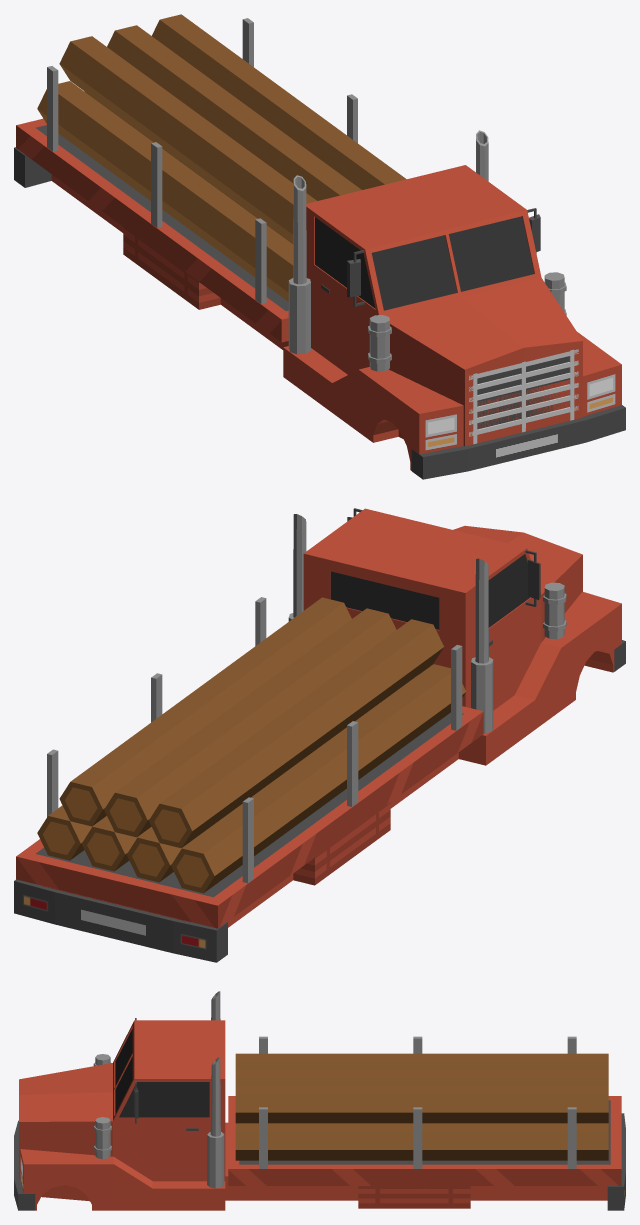
The model's file is truck_chassis.glb.
3 renders of one model, top to bottom at view 1: azimuth 30°, elevation 25°; view 2: azimuth 150°, elevation 25°; view 3: azimuth 270°, elevation 25°, orthographic. The views are drawn at different scales.
Visible parts, largest first — view 1: vehicle; view 2: vehicle; view 3: vehicle.
Part boxes in pixels (box(x1,y1,x2,y2)): vehicle: box(14, 14, 625, 479); vehicle: box(14, 508, 625, 962); vehicle: box(14, 991, 625, 1210).
Size of the model in its own units: 3.94 by 3.75 by 13.88.
1 material, 1 textured.
